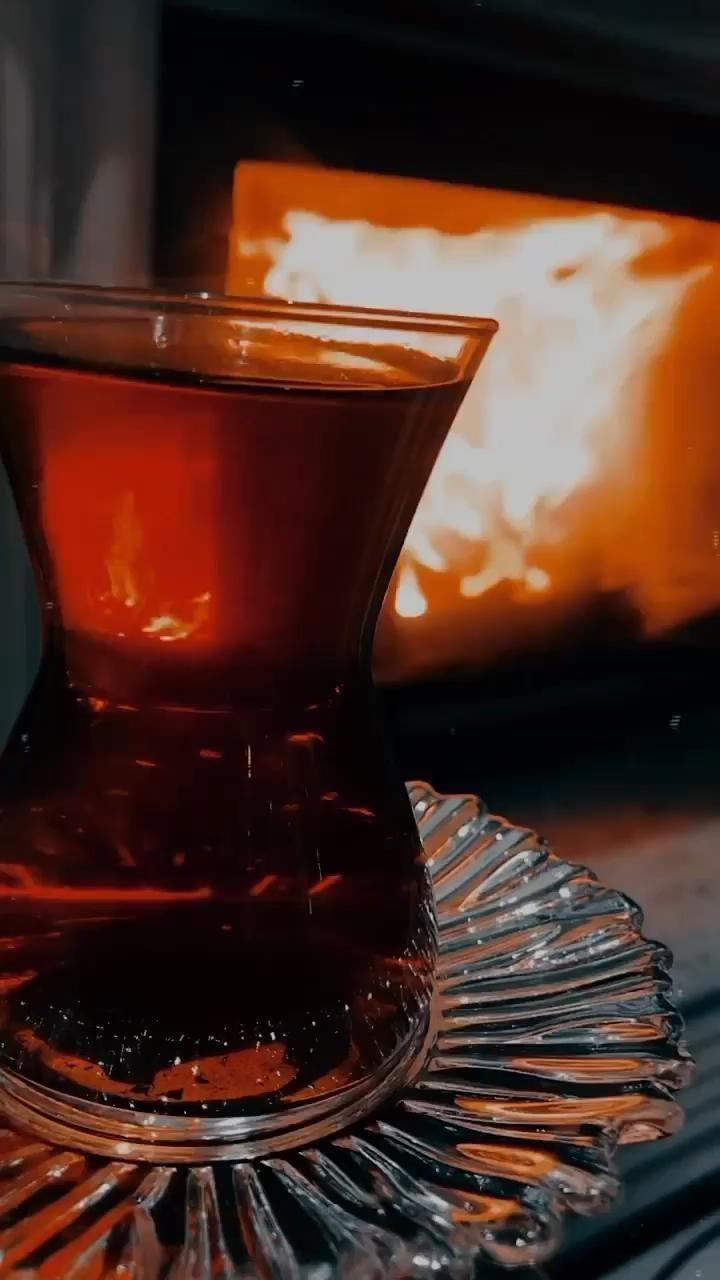glass-normal: (0, 273, 501, 1173)
